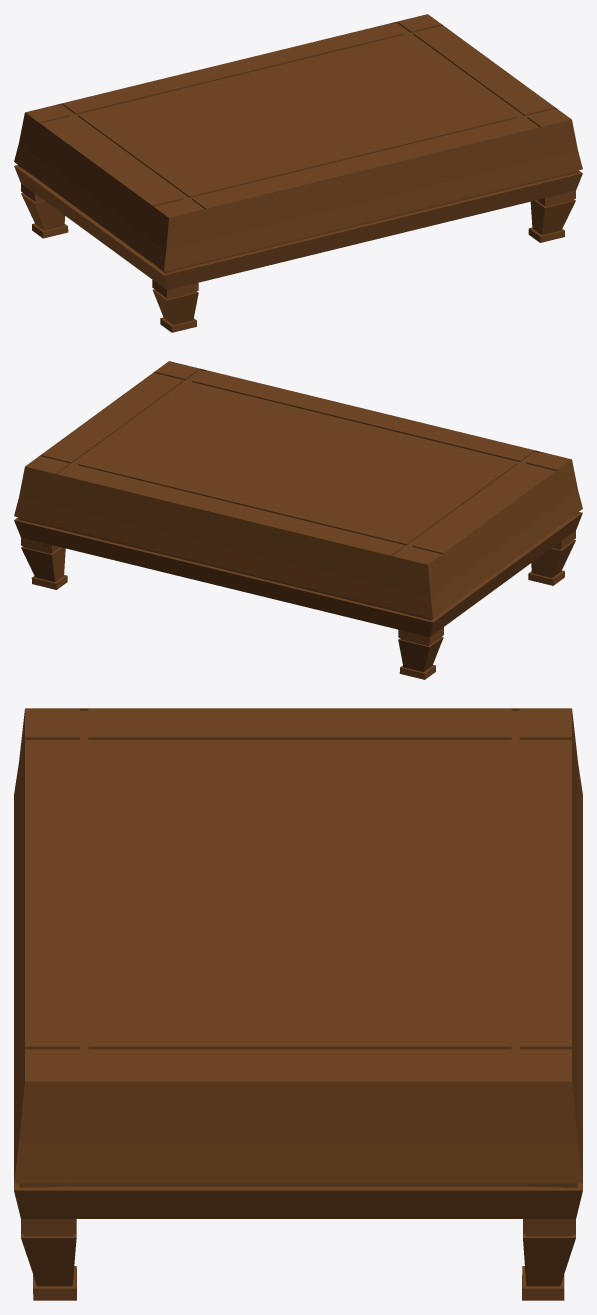
Rendered from altarShortl.fbx.
The picture shows the model from 3 angles, top to bottom: view 1: azimuth 30°, elevation 25°; view 2: azimuth 150°, elevation 25°; view 3: azimuth 270°, elevation 25°; orthographic projection. The views are drawn at different scales.
Parts seen in each view (by area): view 1: Cube.006; view 2: Cube.006; view 3: Cube.006.
Boxes of the visible parts, box(x1,y1,x2,y2) form: Cube.006: box(14, 14, 582, 332); Cube.006: box(14, 361, 582, 679); Cube.006: box(14, 708, 582, 1300).
Bounding box in the file's own units: 361 × 583 × 157.
